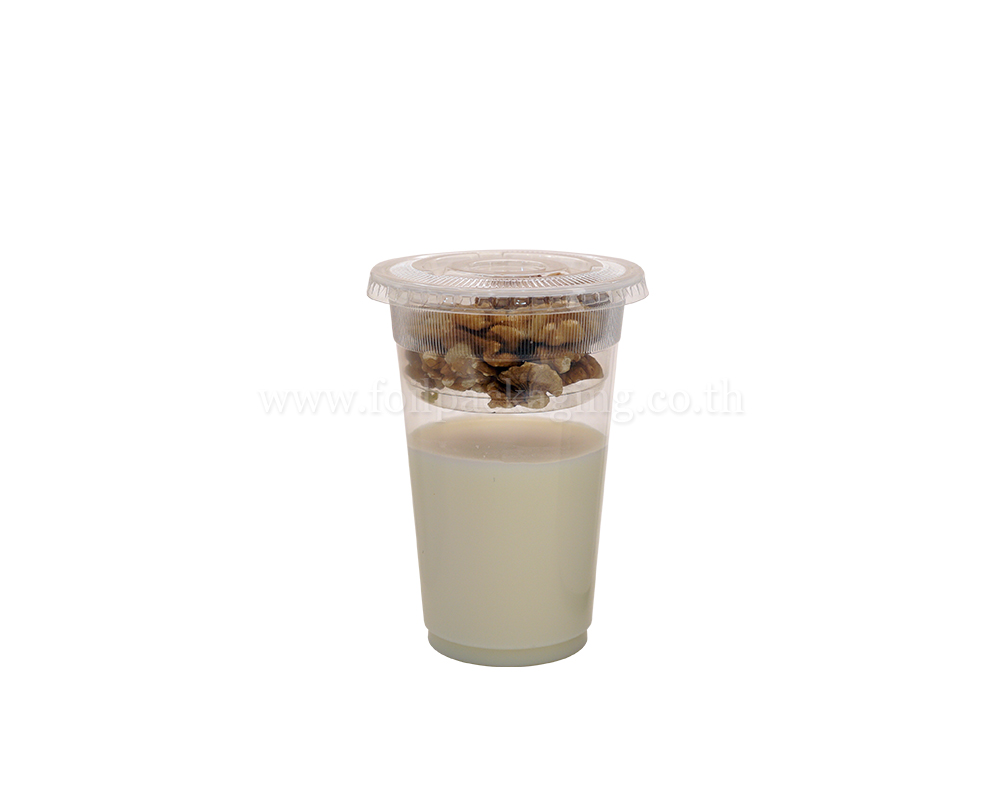plastic_glass: (357, 241, 673, 677)
